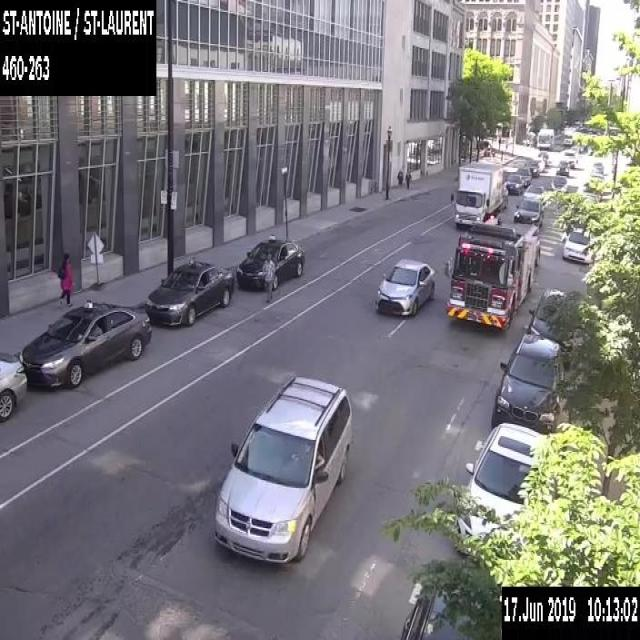bus: (537, 127, 553, 148)
construction: (85, 231, 104, 289)
pedestrian: (57, 252, 74, 309), (262, 250, 275, 302), (396, 168, 403, 192), (404, 168, 411, 192)
vehicle: (211, 372, 354, 565), (455, 420, 548, 557), (18, 299, 152, 387), (444, 216, 539, 330), (489, 333, 564, 434), (144, 255, 235, 327), (237, 233, 305, 291), (400, 585, 469, 639), (448, 160, 502, 226), (375, 257, 435, 316), (527, 286, 567, 350), (0, 349, 26, 418), (561, 225, 592, 264), (513, 197, 544, 224), (522, 183, 547, 204), (503, 173, 524, 193), (550, 174, 567, 193), (515, 166, 531, 186), (561, 148, 578, 166), (524, 159, 539, 177), (498, 184, 508, 210), (563, 126, 576, 145), (555, 160, 569, 176), (532, 156, 545, 170), (537, 150, 548, 164), (591, 160, 603, 172), (573, 141, 583, 151), (587, 144, 594, 155)
